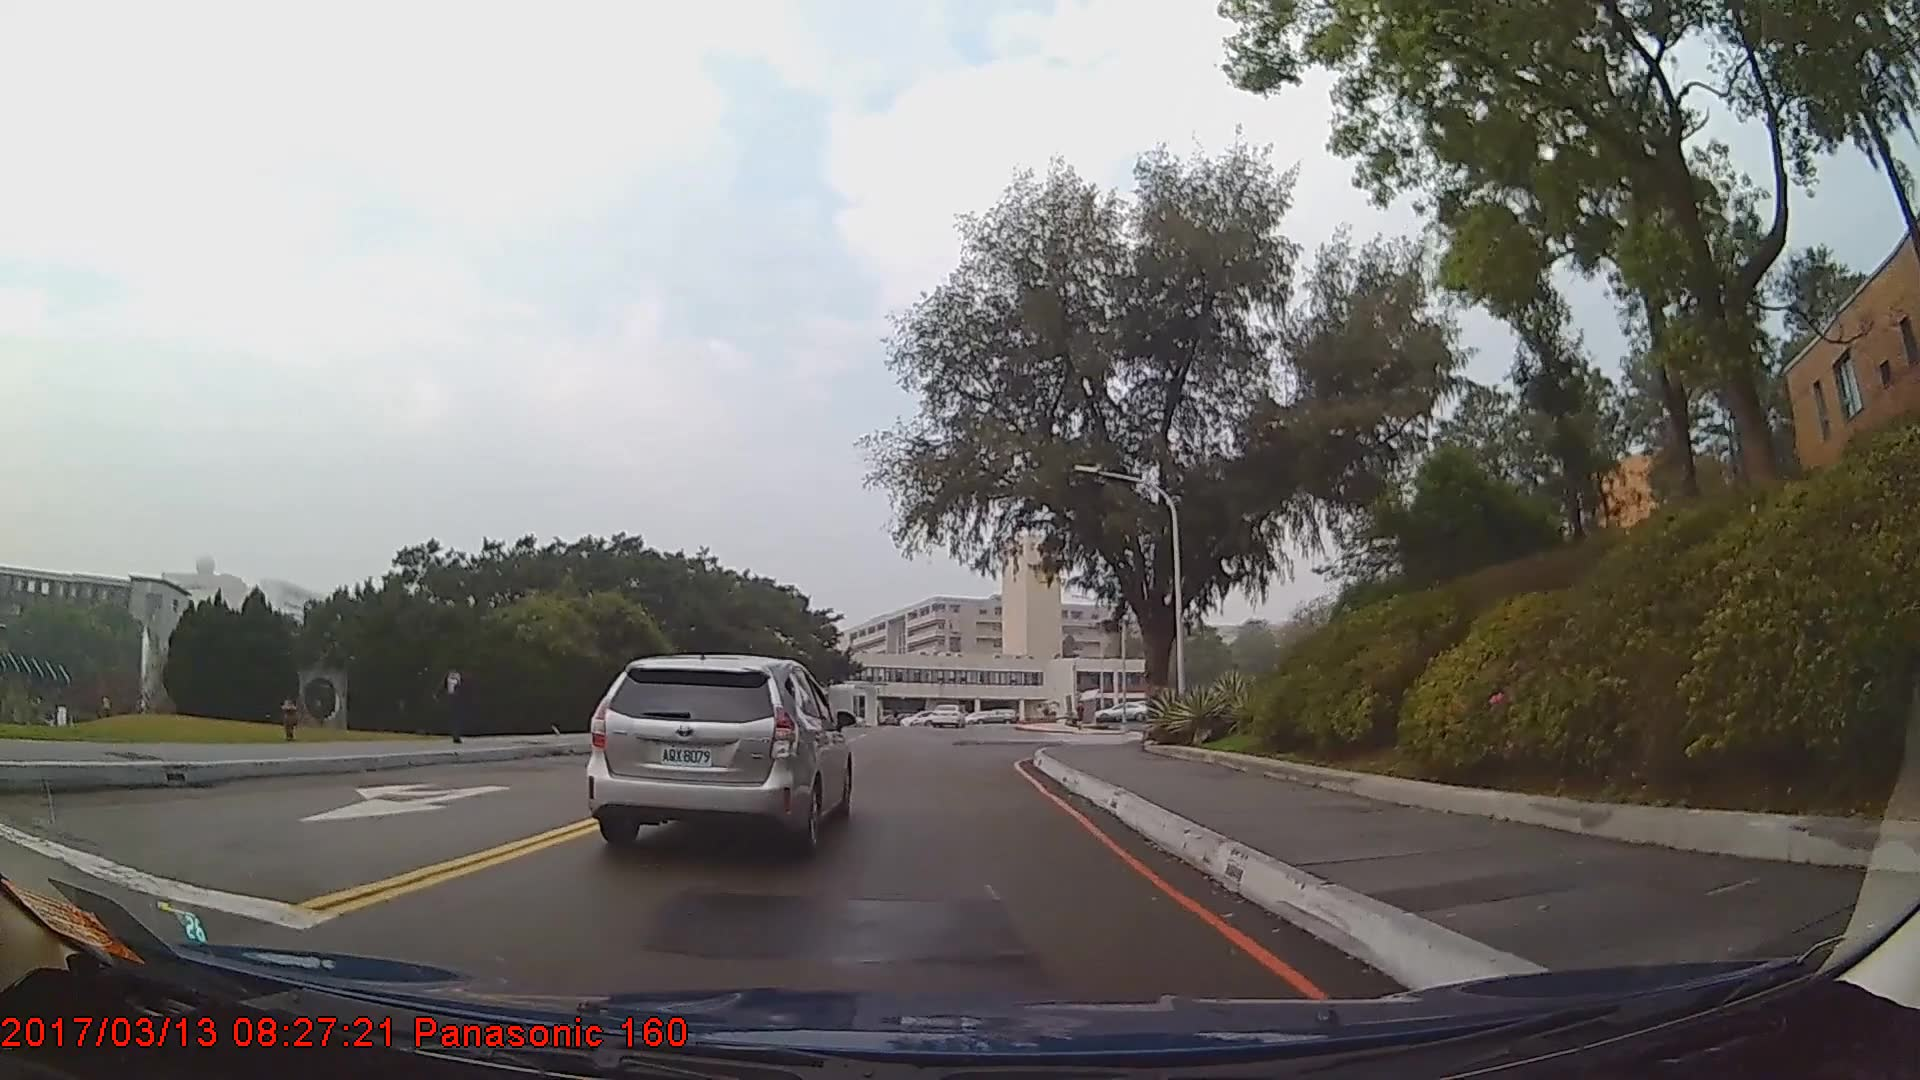pedestrian: (433, 652, 478, 754)
vehicle: (582, 654, 854, 857), (929, 703, 966, 730)
